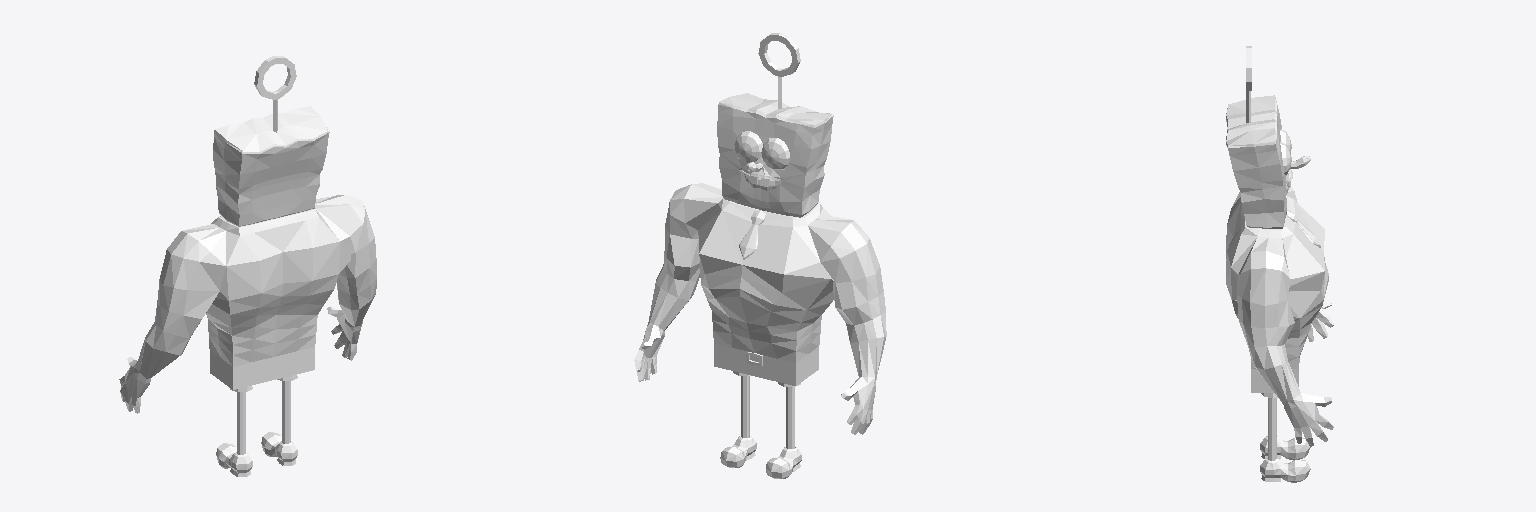
Rendered from Pongebob.obj.
3 renders of one model, left to right at view 1: azimuth 30°, elevation 25°; view 2: azimuth 150°, elevation 25°; view 3: azimuth 270°, elevation 25°, orthographic.
Parts seen in each view (by area): view 1: Meshesspongebob11; view 2: Meshesspongebob11; view 3: Meshesspongebob11.
Part boxes in pixels (x1,y1,x2,y2): Meshesspongebob11: (119, 56, 376, 476); Meshesspongebob11: (634, 33, 886, 478); Meshesspongebob11: (1226, 46, 1333, 482).
Bounding box in the file's own units: 3.18 × 5.53 × 1.3.